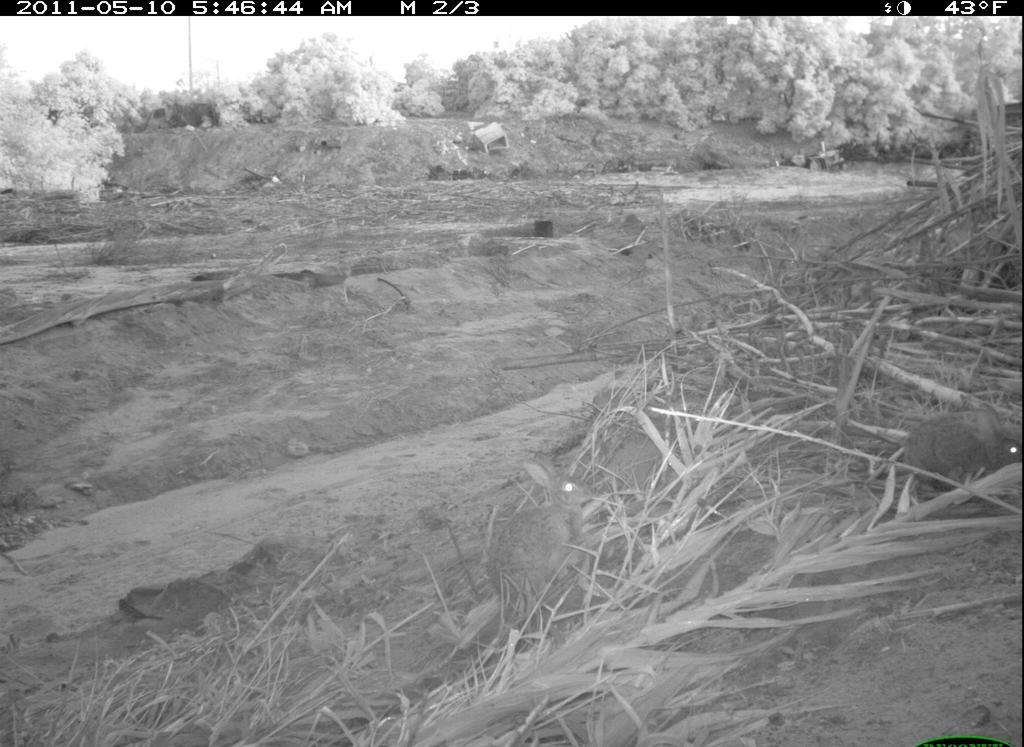rabbit: (482, 451, 616, 626), (881, 400, 1023, 507)
